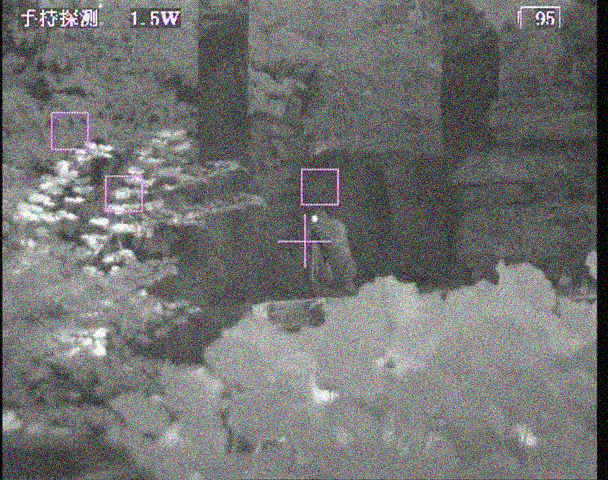my: (310, 214, 321, 225)
